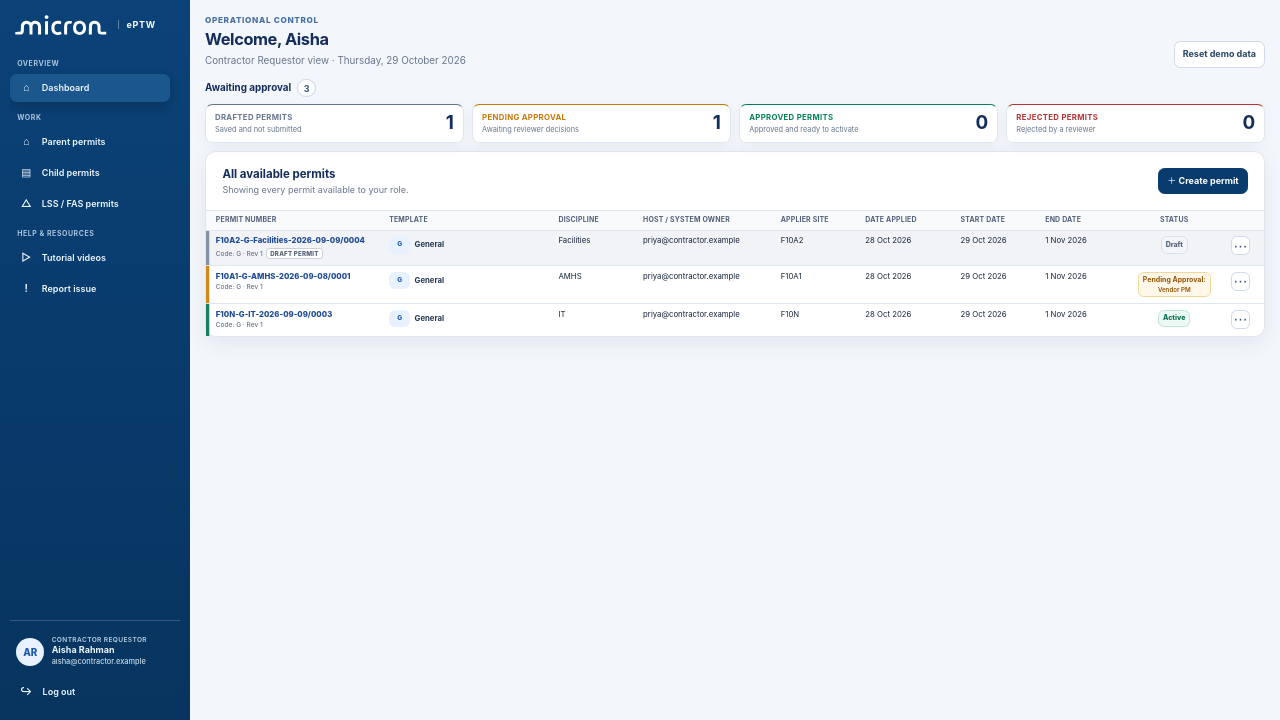
Test: application shell › filters dashboard permit results when a status card is selected
Click the button "Drafted permits 1 Saved and not submitted".
click(334, 124)  # box top-left (205, 104), bottom-right (464, 143)
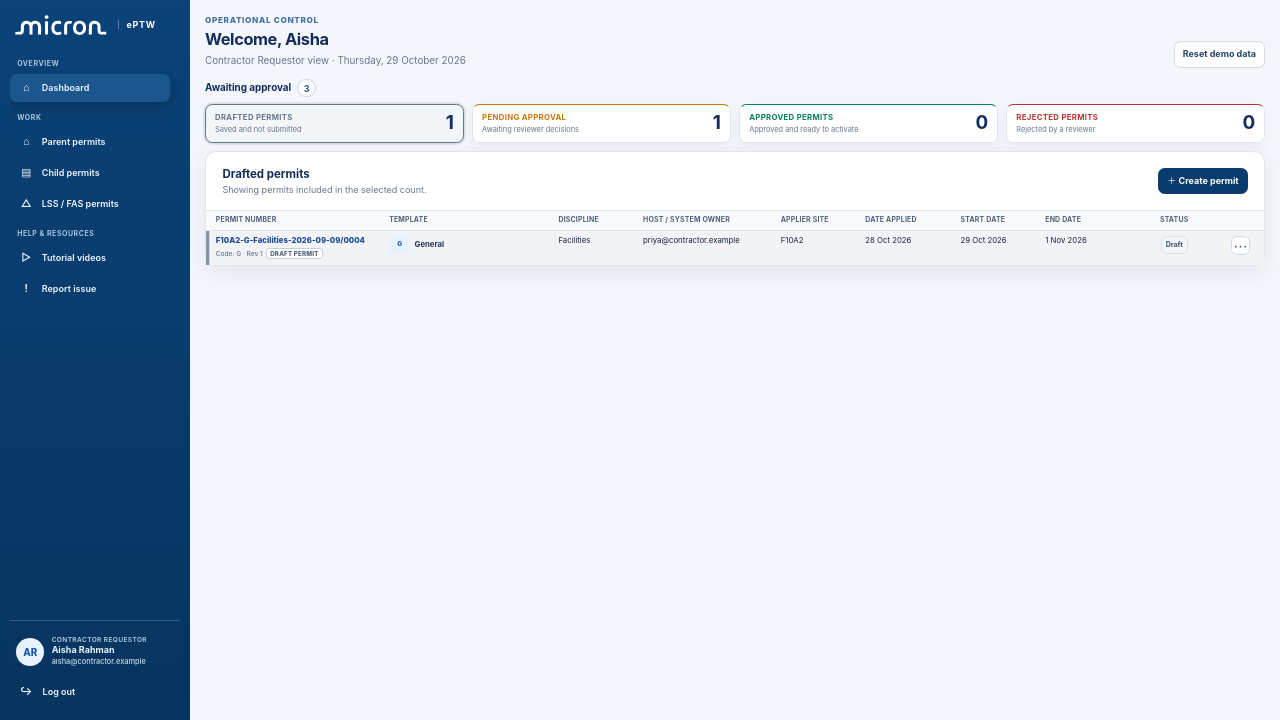
Expected: the link "F10A2-G-Facilities-2026-09-09/0004" is shown, top-left (216, 235), bottom-right (365, 245)
Result: the heading "Drafted permits" is shown at top-left (222, 167), bottom-right (310, 181)
Result: the link "F10A1-G-AMHS-2026-09-08/0001" is gone
Click the button "Drafted permits 1 Saved and not submitted".
click(334, 124)  # box top-left (205, 104), bottom-right (464, 143)
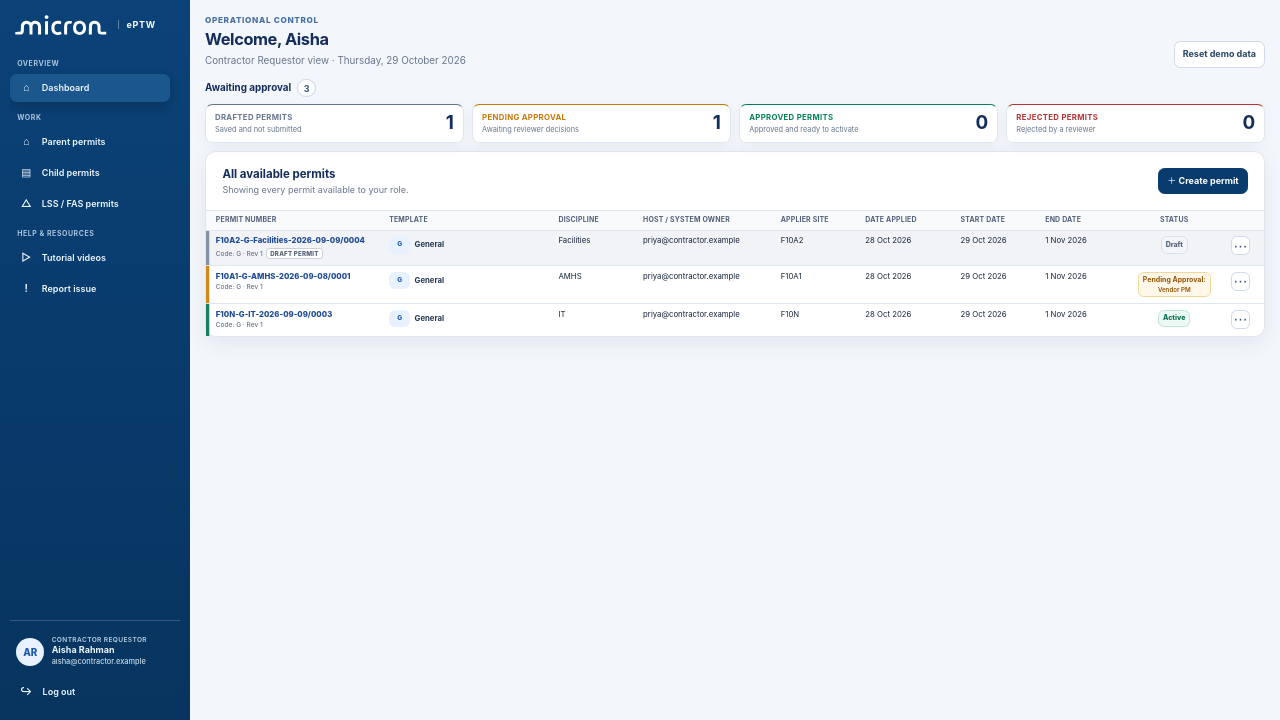
Result: the heading "All available permits" is shown at top-left (222, 167), bottom-right (336, 181)
Result: the link "F10A1-G-AMHS-2026-09-08/0001" is shown at top-left (216, 271), bottom-right (350, 281)
